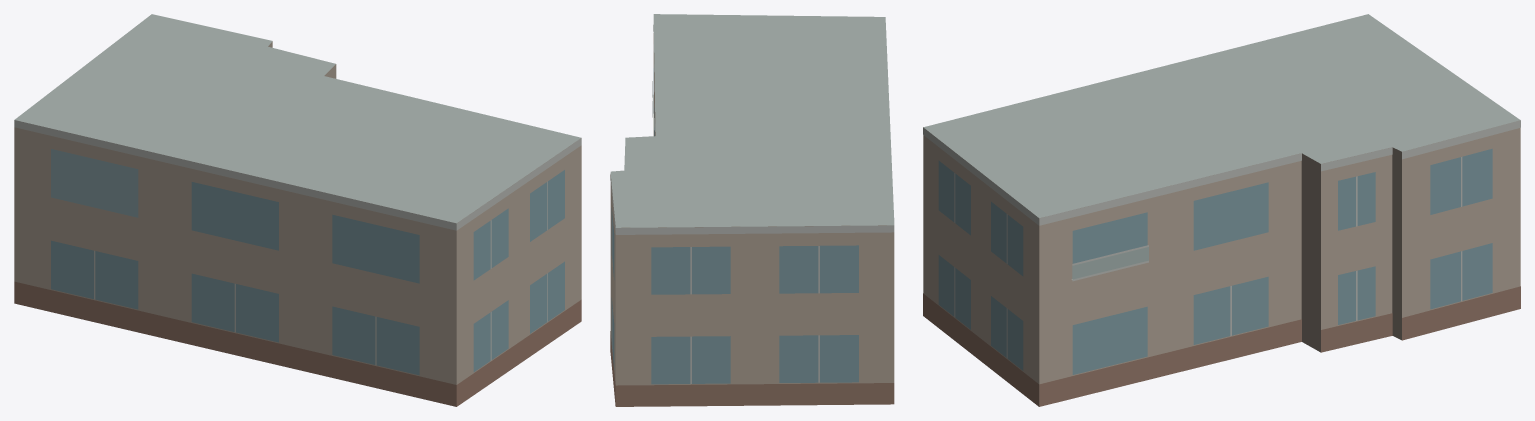
File: survey-upis-32463678.glb
The picture shows the model from 3 angles, left to right: view 1: azimuth 30°, elevation 25°; view 2: azimuth 150°, elevation 25°; view 3: azimuth 270°, elevation 25°; orthographic projection. The views are drawn at different scales.
Parts seen in each view (by area): view 1: survey-upis-32463678.tmp; view 2: survey-upis-32463678.tmp; view 3: survey-upis-32463678.tmp.
Boxes of the visible parts, bbox=[...] form: survey-upis-32463678.tmp: bbox=[14, 14, 581, 406]; survey-upis-32463678.tmp: bbox=[610, 14, 894, 406]; survey-upis-32463678.tmp: bbox=[923, 14, 1520, 406].
Size of the model in its own units: 14.17 by 6.1 by 17.52.
